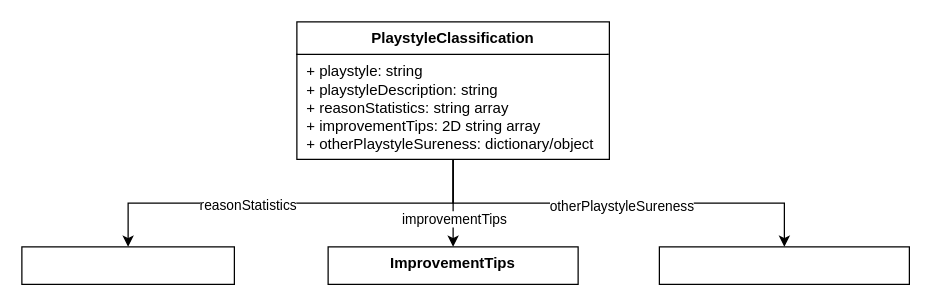
This 931x306 diagram has some shape labels left out. The centre of each missing label's shape, as x and y in pixels:
OtherPlaystyles: the point at 783,265
Reason: the point at 127,265
